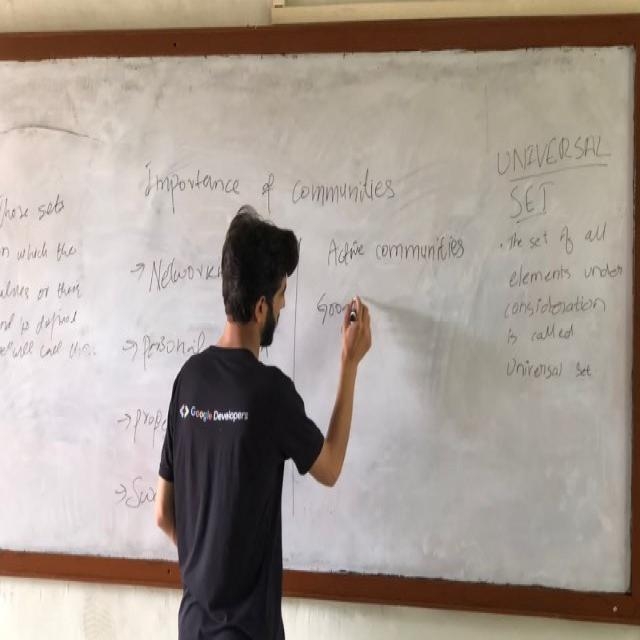Instructor: (178, 192, 301, 640)
White-board: (0, 27, 640, 609)
